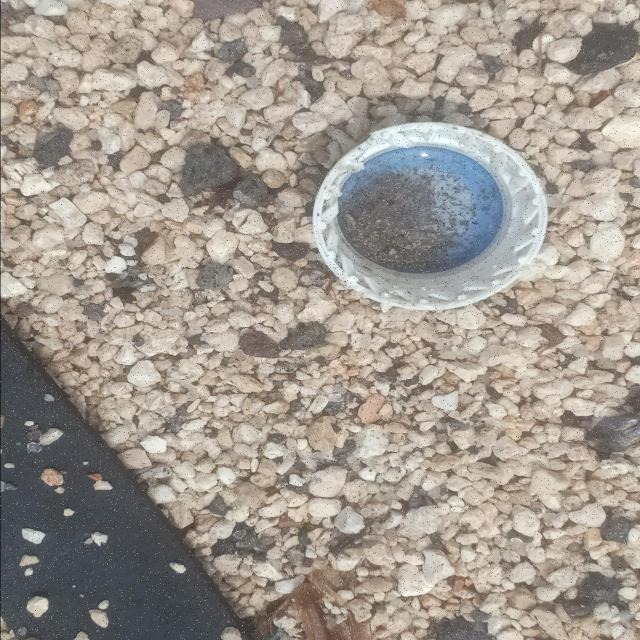plastic_waste: (310, 121, 551, 313)
